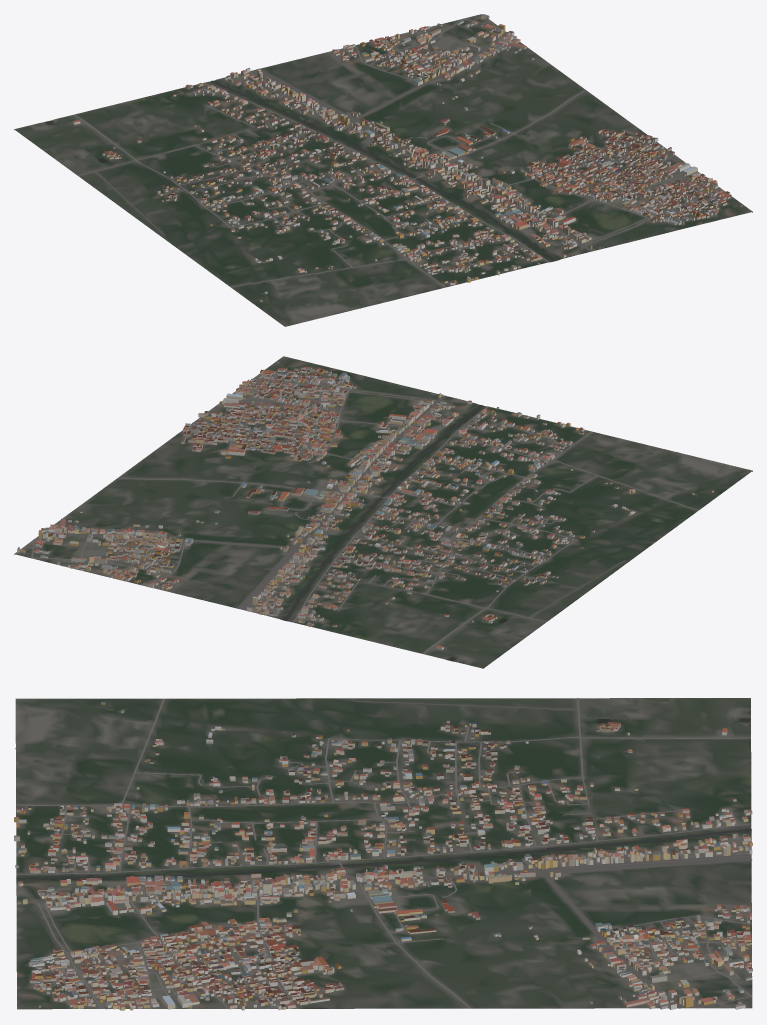
3 renders of one model, top to bottom at view 1: azimuth 30°, elevation 25°; view 2: azimuth 150°, elevation 25°; view 3: azimuth 270°, elevation 25°, orthographic. The views are drawn at different scales.
Visible parts, largest first — view 1: ground, buildings, roads, water; view 2: ground, buildings, roads, water; view 3: ground, buildings, roads, water.
Part boxes in pixels (x1,y1,x2,y2): ground: (14, 14, 752, 326); buildings: (72, 14, 742, 301); roads: (74, 18, 727, 319); water: (45, 80, 555, 261); ground: (14, 356, 752, 668); buildings: (17, 361, 714, 649); roads: (31, 371, 733, 653); water: (283, 405, 507, 660); ground: (15, 698, 752, 1009); buildings: (14, 702, 752, 1010); roads: (15, 698, 752, 1009); water: (16, 718, 751, 879).
Bounding box in the file's own units: 1413 × 27.81 × 1409.
